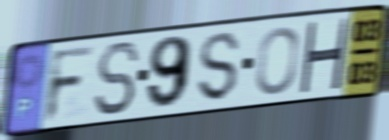9: (146, 33, 197, 112)
F: (42, 43, 98, 125)
H: (296, 17, 351, 94)
O: (254, 24, 301, 98)
S: (92, 39, 142, 119), (197, 30, 242, 105)
